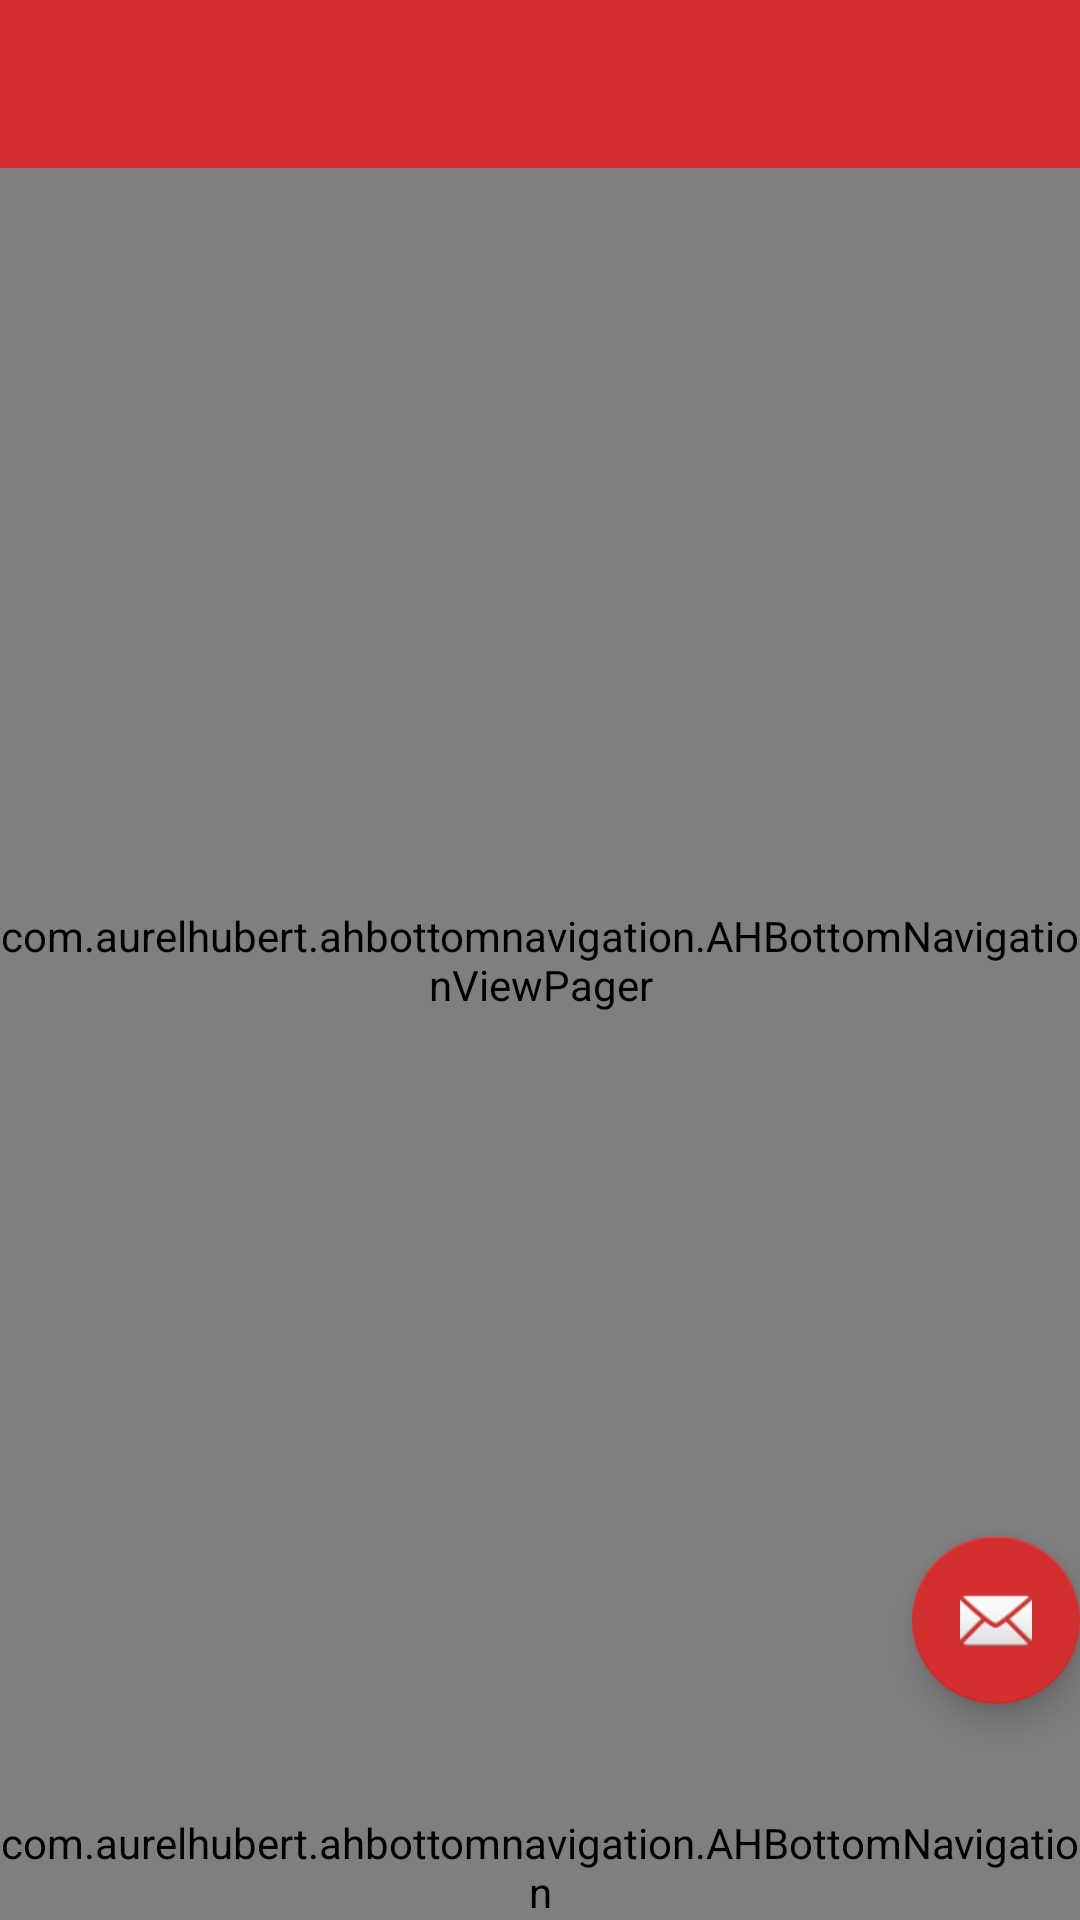

Where to tap for icons on this 1080px x 1920px app screen, as (x=x, y=y):
email: (x=996, y=1620)
